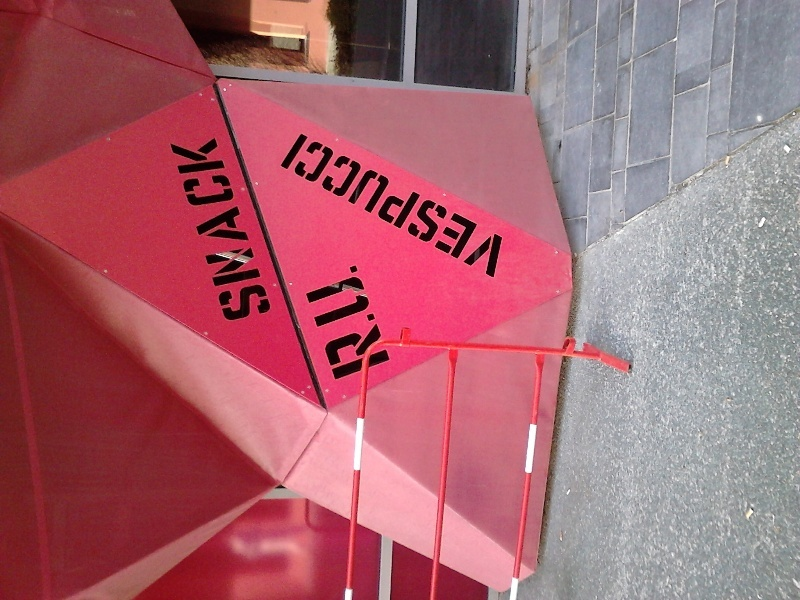text: (257, 136, 273, 323), (225, 136, 240, 323), (241, 136, 256, 323), (305, 132, 320, 279), (321, 132, 336, 279), (337, 132, 352, 279), (353, 132, 368, 279), (369, 132, 384, 279), (385, 132, 400, 279), (401, 132, 416, 279), (417, 132, 432, 279), (433, 132, 448, 279), (449, 132, 464, 279), (465, 132, 480, 279), (481, 132, 496, 279), (305, 263, 320, 381), (321, 263, 336, 381), (337, 263, 352, 381), (353, 263, 368, 381), (369, 263, 384, 381), (216, 136, 224, 323), (497, 132, 507, 279), (385, 263, 393, 381), (302, 132, 304, 279), (302, 263, 304, 381)
